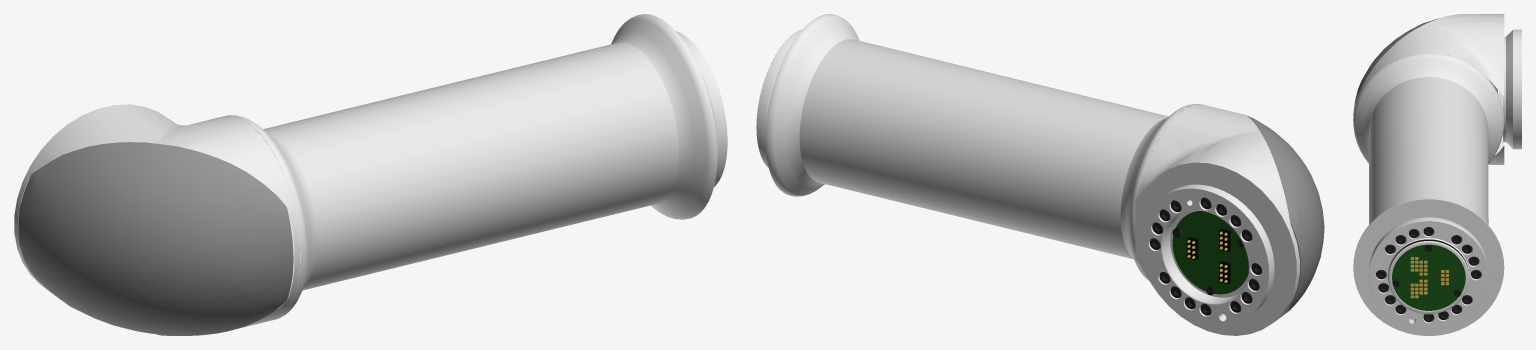
The picture shows the model from 3 angles, left to right: view 1: azimuth 30°, elevation 25°; view 2: azimuth 150°, elevation 25°; view 3: azimuth 270°, elevation 25°; orthographic projection. The views are drawn at different scales.
Parts seen in each view (by area): view 1: L86.001; view 2: L86.001; view 3: L86.001.
Boxes of the visible parts, bbox=[...] form: L86.001: bbox=[14, 14, 727, 335]; L86.001: bbox=[756, 14, 1324, 335]; L86.001: bbox=[1353, 14, 1521, 335].
Size of the model in its own units: 0.2979 by 0.0862 by 0.0961.
